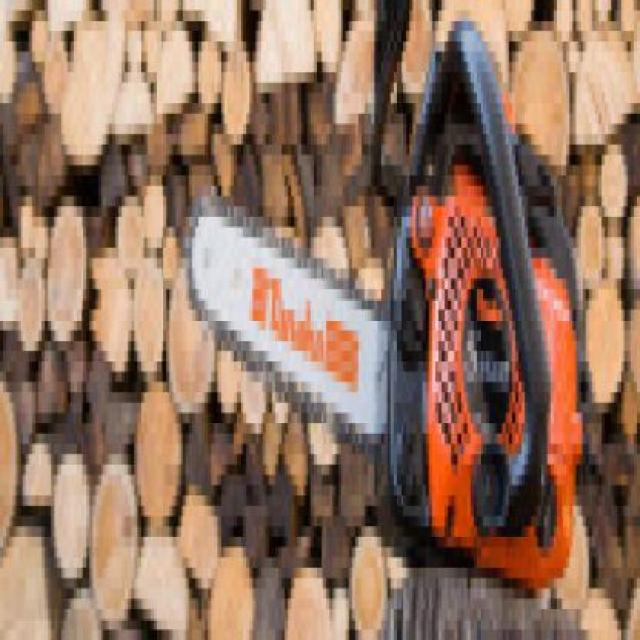Chainsaw: (193, 0, 602, 620)
